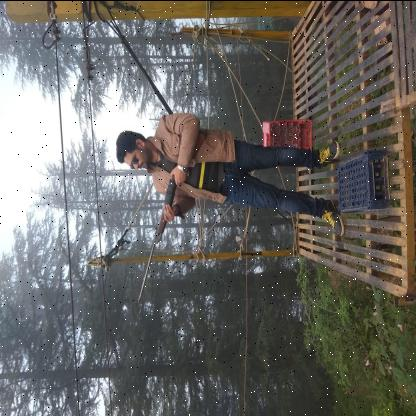rifle: (136, 124, 207, 304)
